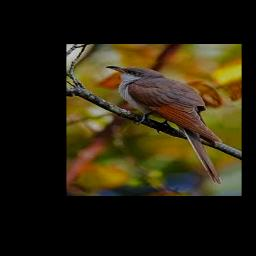Cuckoo: (106, 65, 222, 184)
